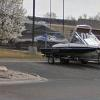Boat: (28, 24, 100, 68)
